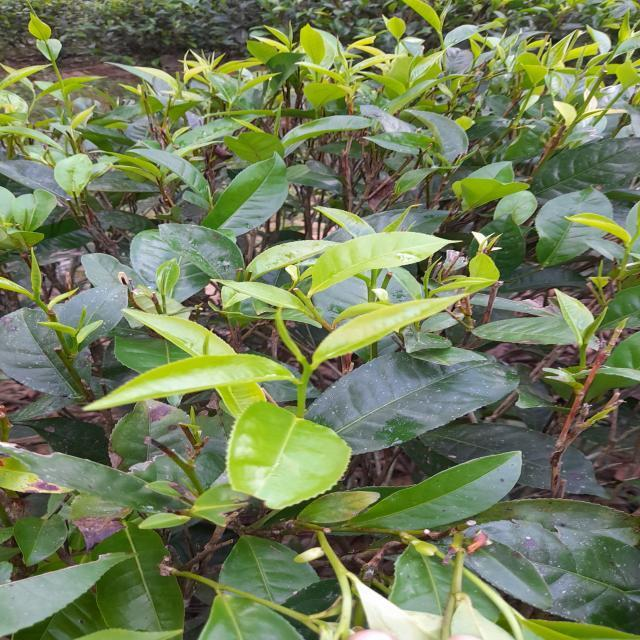Stem: (303, 368, 314, 378), (34, 297, 43, 306)
